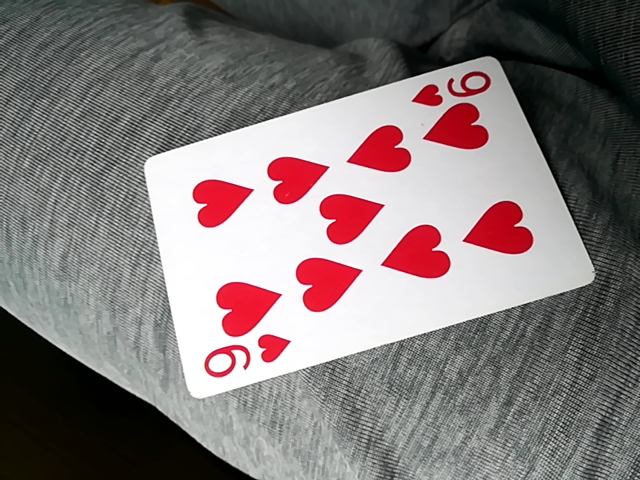hx 9: (142, 55, 595, 400)
